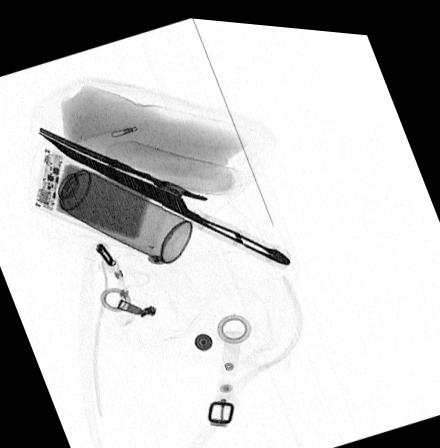Knife: (34, 128, 290, 259)
Powerbank: (27, 141, 169, 247)
Scissors: (36, 124, 208, 198)
Sprayer: (36, 150, 193, 260)
